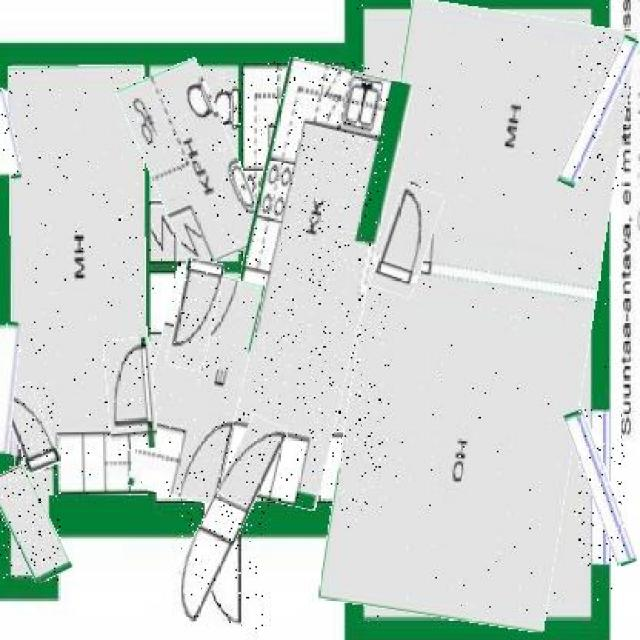door: (180, 412, 265, 630), (378, 185, 437, 297), (105, 338, 157, 449), (172, 258, 218, 371), (4, 383, 54, 472)
window: (574, 32, 626, 191), (578, 408, 624, 566), (0, 321, 17, 454), (0, 88, 17, 178)
zone: (341, 4, 614, 624), (217, 61, 389, 508), (9, 67, 146, 496), (140, 270, 252, 502), (132, 62, 255, 266), (0, 466, 60, 582)
